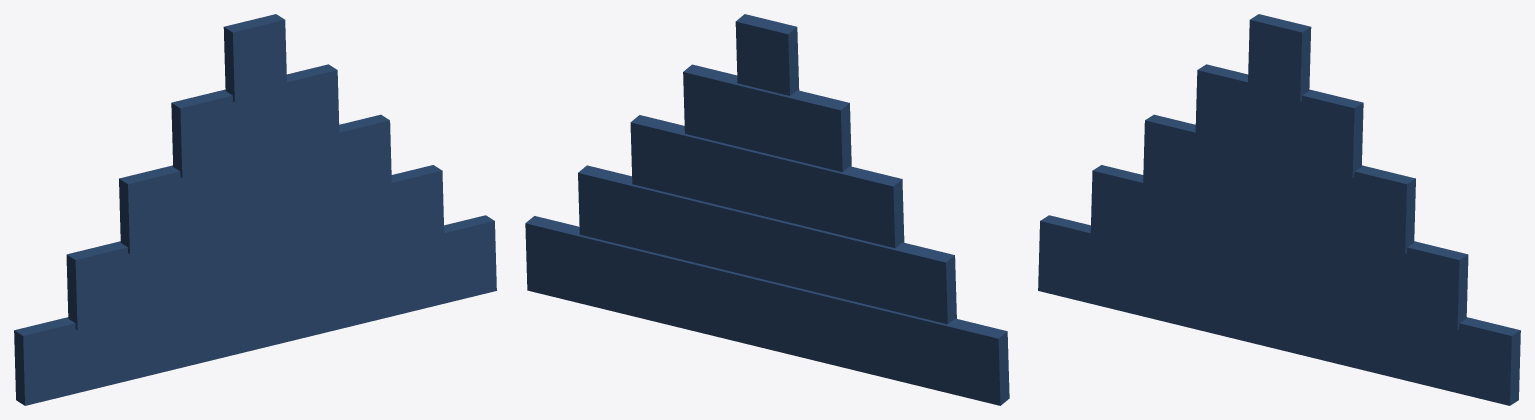
Rendered from kit_clapboard_gable_w1.glb.
3 renders of one model, left to right at view 1: azimuth 30°, elevation 25°; view 2: azimuth 150°, elevation 25°; view 3: azimuth 330°, elevation 25°, orthographic.
Parts seen in each view (by area): view 1: kit_clapboard_gable_w1; view 2: kit_clapboard_gable_w1; view 3: kit_clapboard_gable_w1.
Boxes of the visible parts, x1,y1,x2,y2 form: kit_clapboard_gable_w1: (14,14,496,405); kit_clapboard_gable_w1: (525,14,1009,405); kit_clapboard_gable_w1: (1038,14,1520,405).
Bounding box in the file's own units: 0.9 × 0.5864 × 0.0365.
